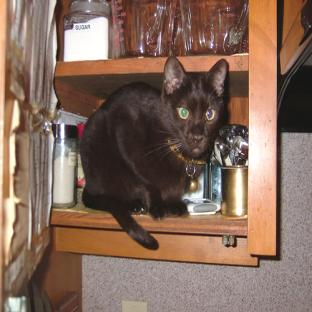Animal: (81, 57, 228, 249)
